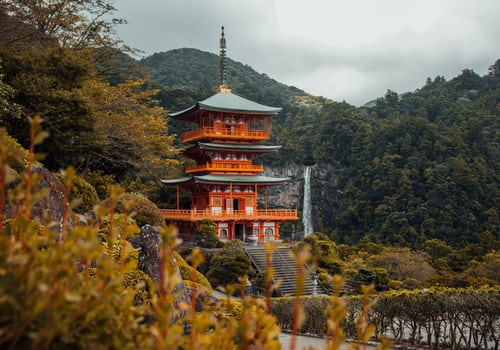Temple: (158, 45, 299, 255)
